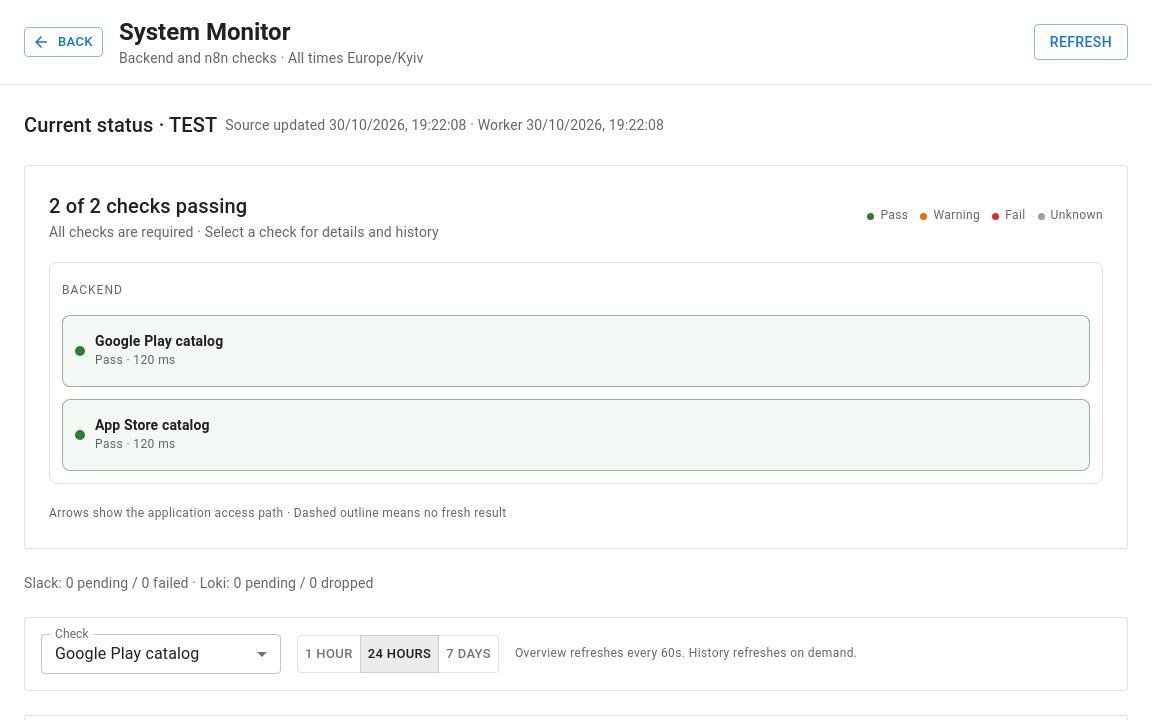
Test: shows each store separately and selects App Store history and details
Expected: the button with aria-label "Google Play catalog: Pass" is shown, [62,315,1090,387]
Step 1. Click the button with aria-label "App Store catalog: Pass" → (152, 425), box [62,399,1090,471]
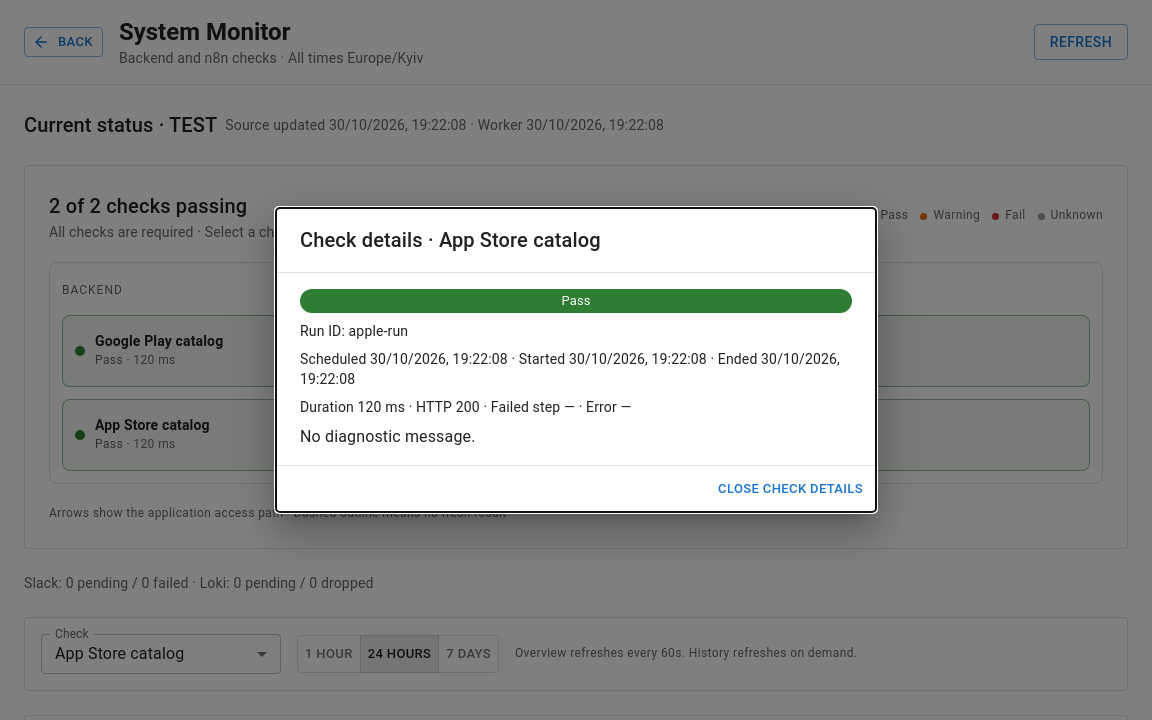
Expected: the heading "Check details · App Store catalog" is shown, [300,228,601,252]
